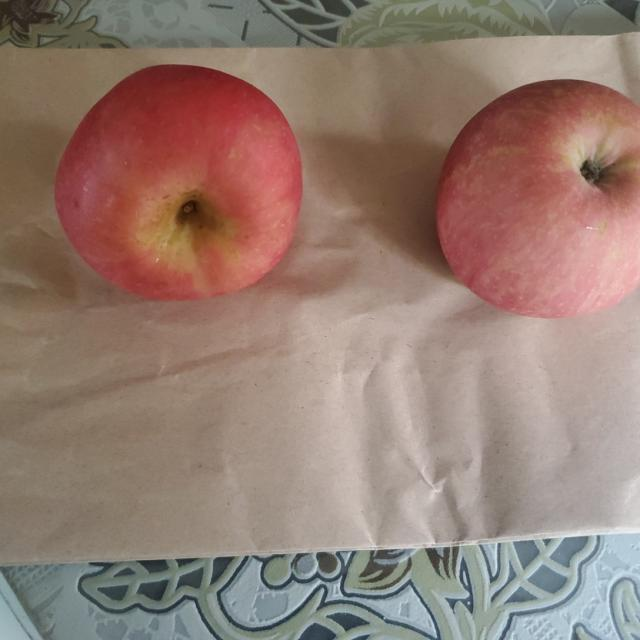apple: (53, 69, 303, 304), (439, 80, 640, 323)
